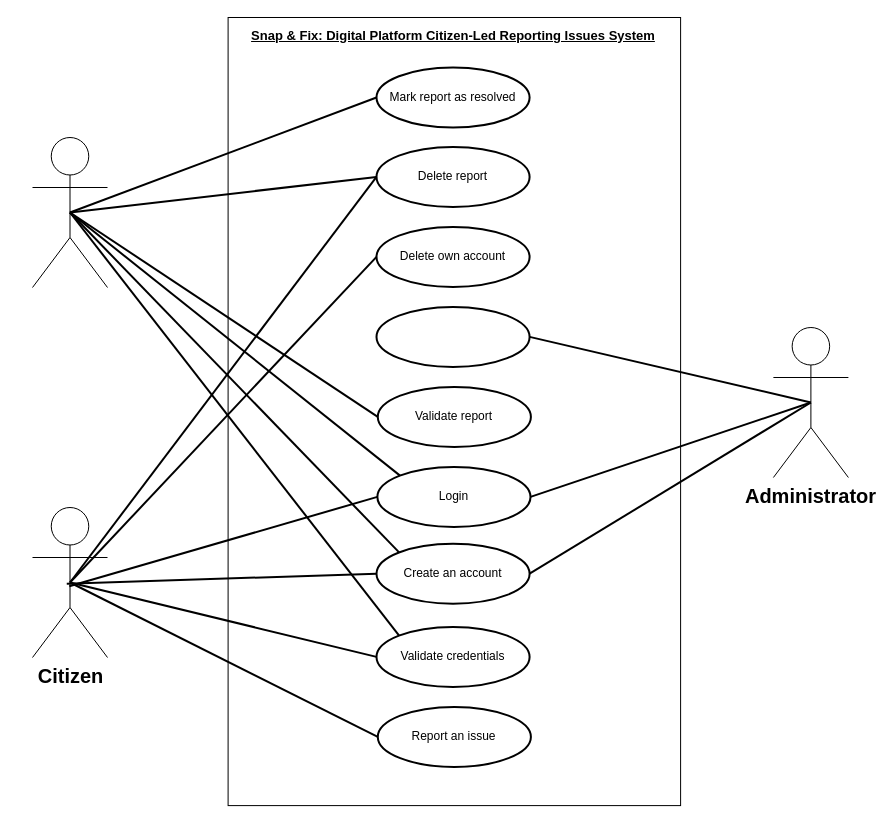
The diagram is 894 pixels wide and 824 high, and some of its shapes have lost their labels. Here are the shapes that lost their labels. From the top down, the centre of each, then its label:
At point 70,212: "Local DILG".
At point 452,336: "Manage accounts".
